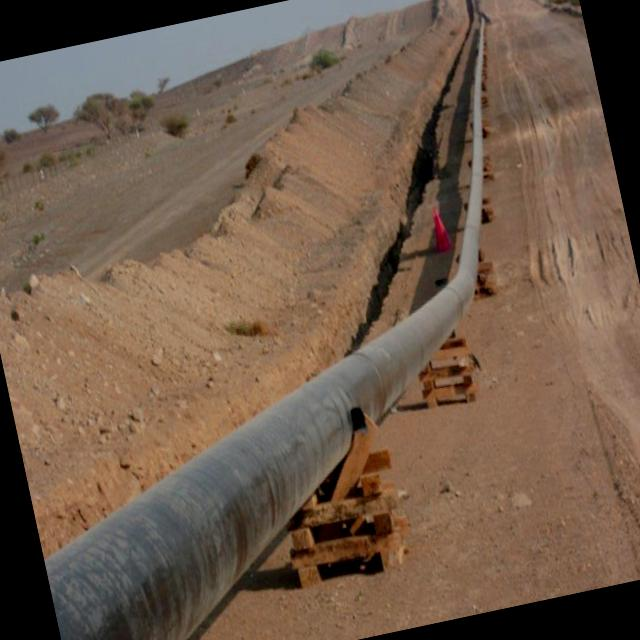gas: (45, 20, 484, 640)
